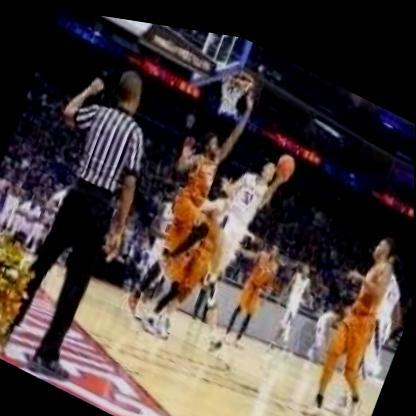basketball: (269, 138, 300, 177)
